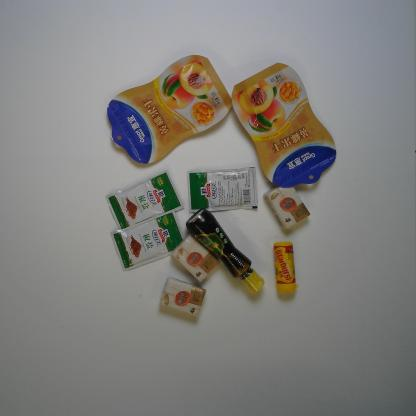Candy: (273, 241, 299, 295)
Dried Fruit: (107, 54, 232, 166), (232, 61, 338, 188)
Seasoner: (185, 209, 266, 294), (110, 210, 186, 272), (106, 170, 182, 232), (185, 166, 260, 214)
Tissue: (170, 233, 220, 283), (264, 181, 312, 232), (159, 278, 207, 317)
